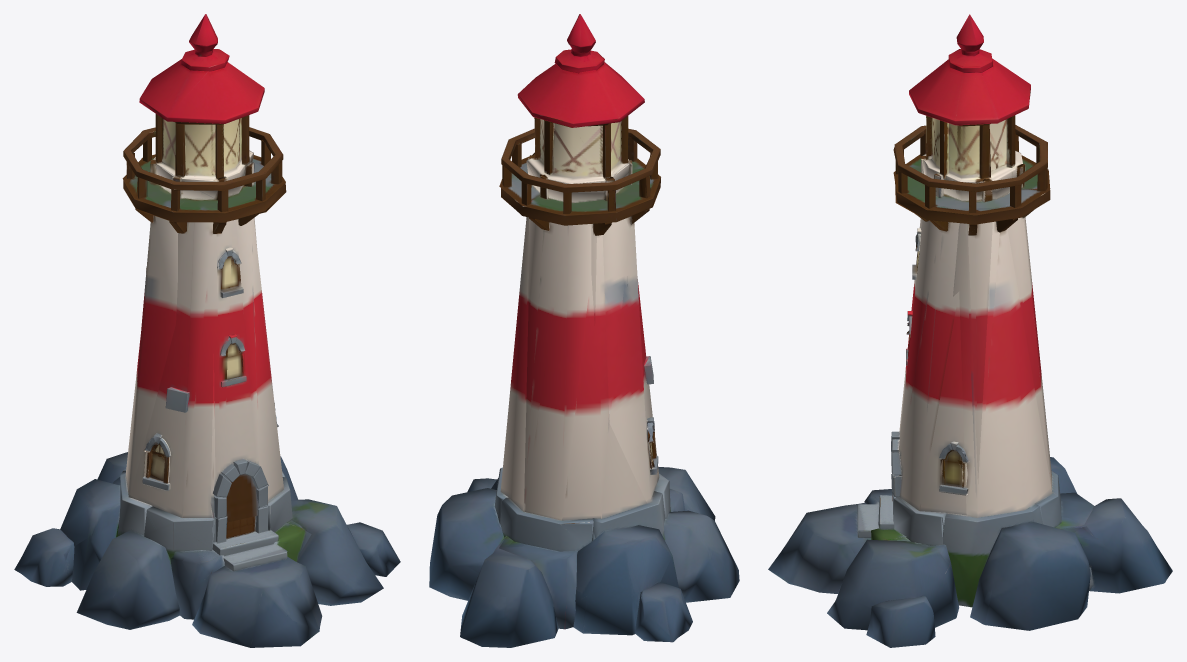
Rendered from Meshy_AI_Beacon_on_the_Blue_1020134118_texture.fbx.
3 renders of one model, left to right at view 1: azimuth 30°, elevation 25°; view 2: azimuth 150°, elevation 25°; view 3: azimuth 270°, elevation 25°, orthographic.
Visible parts, largest first — view 1: Mesh_0; view 2: Mesh_0; view 3: Mesh_0.
Boxes of the visible parts, x1,y1,x2,y2 form: Mesh_0: (14,14,400,647); Mesh_0: (429,14,739,647); Mesh_0: (768,14,1172,647).
Size of the model in its own units: 53.17 by 95.17 by 62.55.
1 material, 1 textured.
